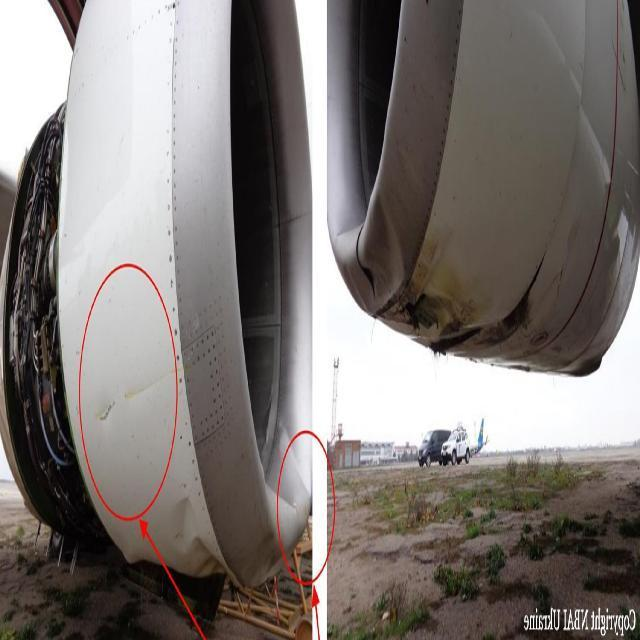crack: (98, 396, 120, 421)
dent: (170, 492, 228, 586)
